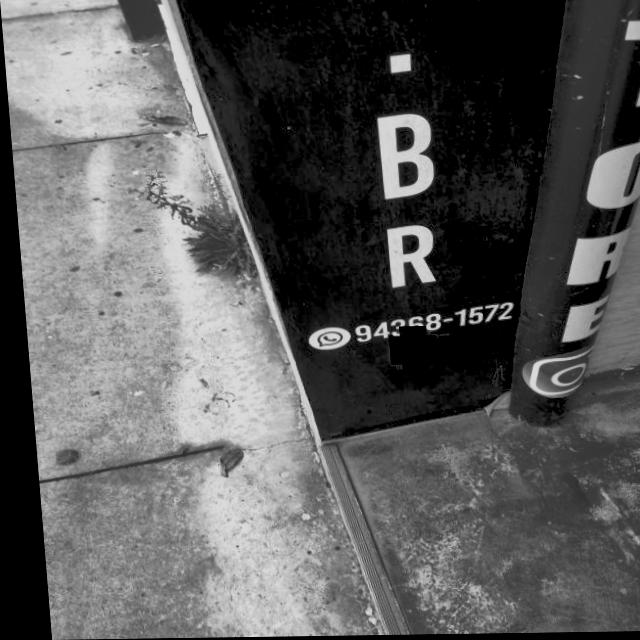qr_code: (388, 332, 428, 371)
